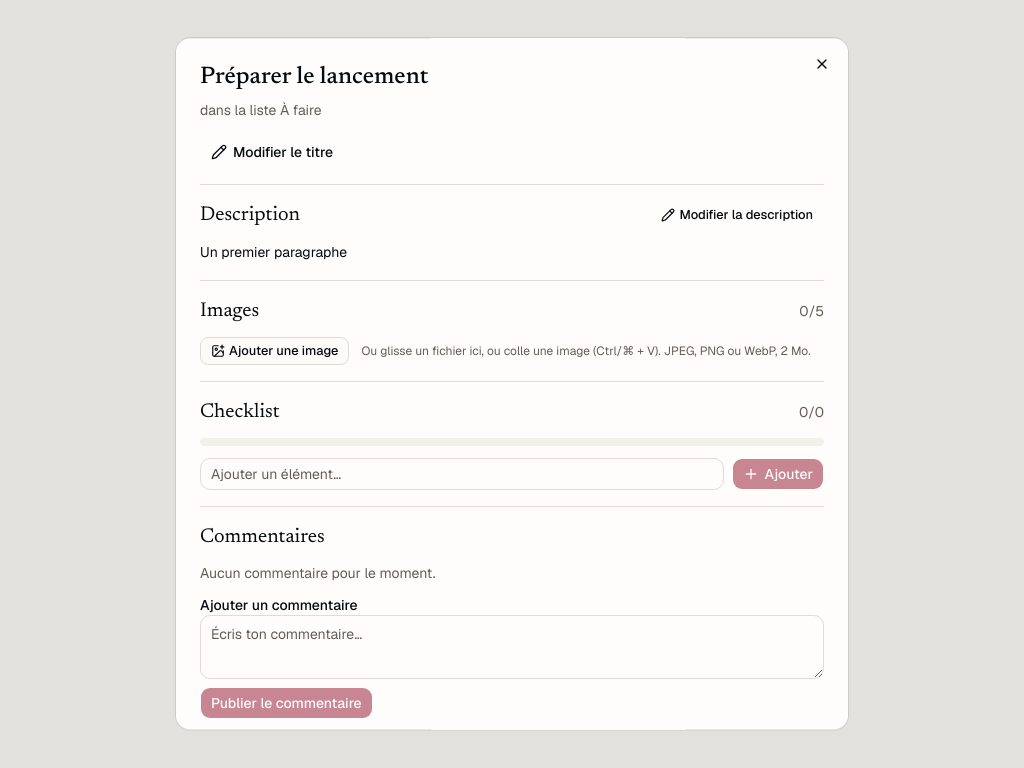
Test: fenêtre d'une carte › propose les raccourcis de mise en forme sur la sélection
The width and height of the screenshot is (1024, 768).
Click the button "Modifier la description": (737,215) [650,201,824,229]
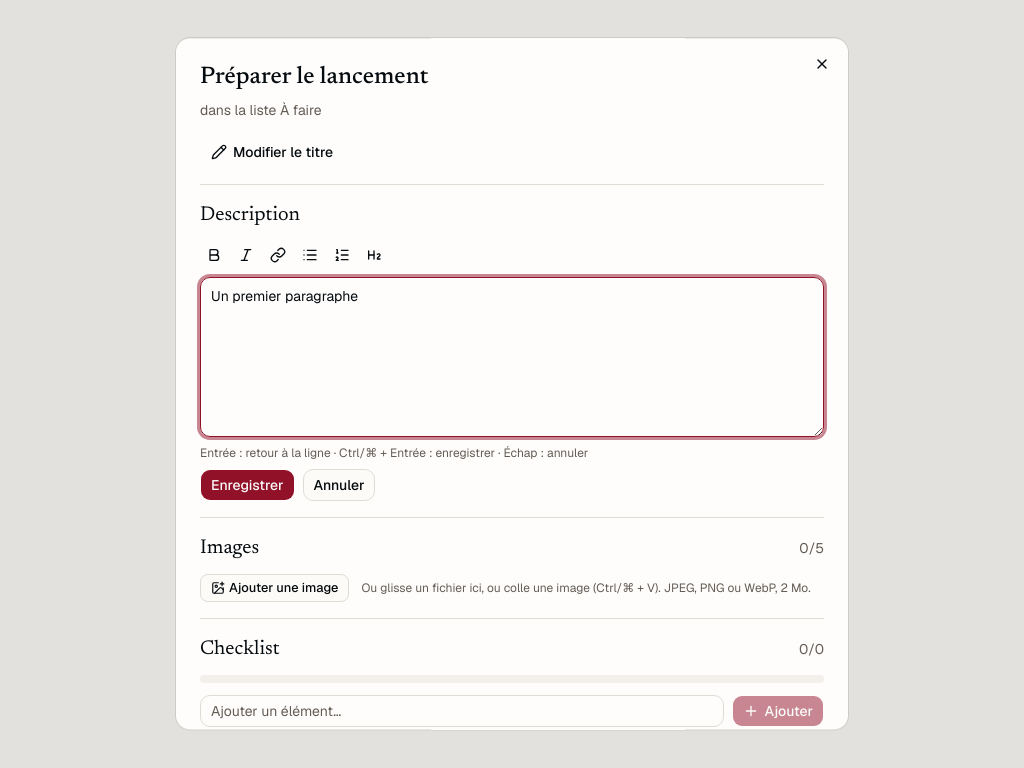
Replace the text in the text box named "Description de la carte" with "important": (512,357) [200,277,824,437]
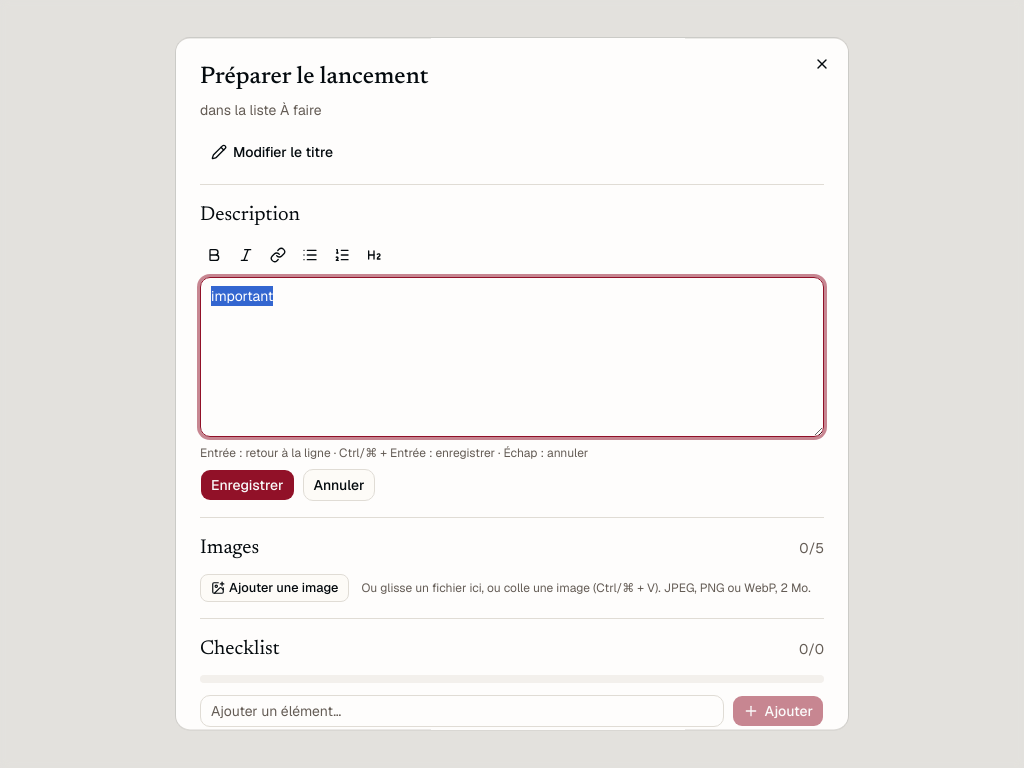
Press b in the text box named "Description de la carte", box [200,277,824,437]
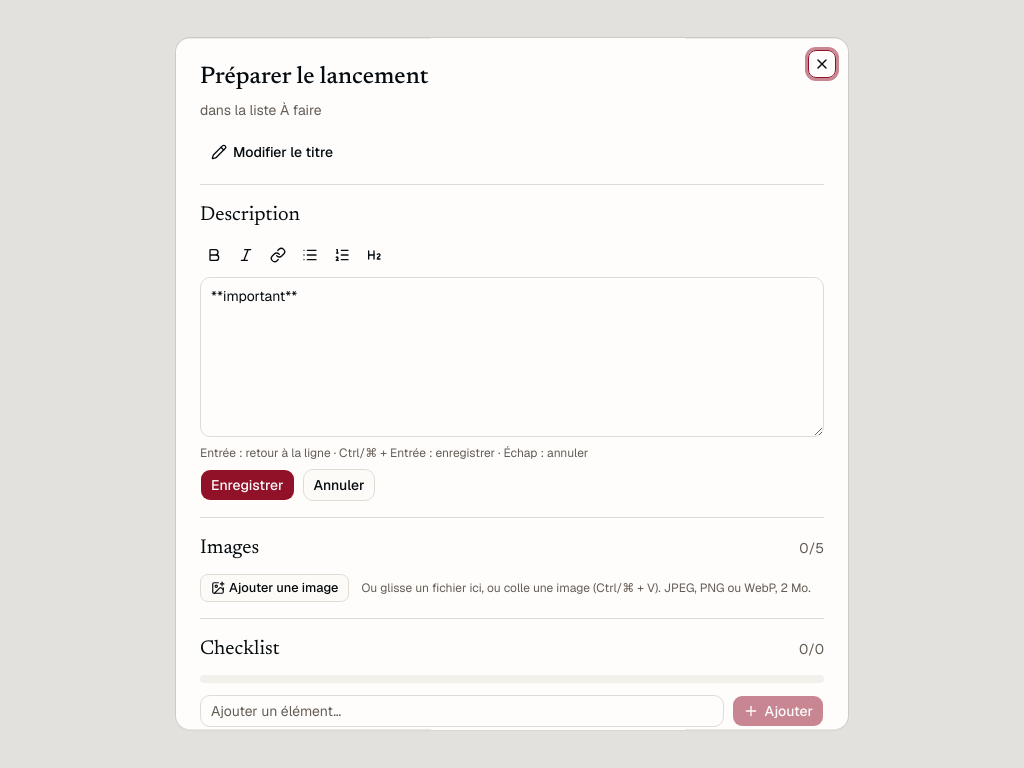
Expected: the text box named "Description de la carte" holds "**important**", [200,277,824,437]
